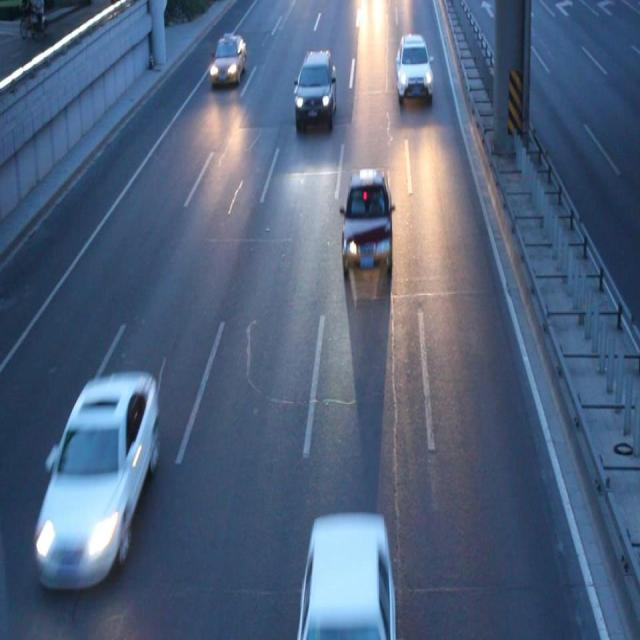car: (32, 372, 156, 584), (296, 518, 396, 640), (340, 172, 394, 274), (294, 51, 336, 130), (394, 33, 433, 103), (210, 34, 245, 84)
